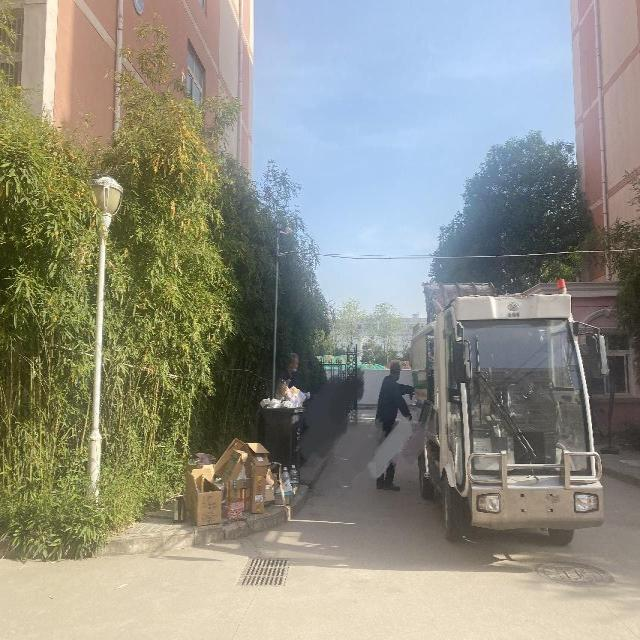garbage: (172, 437, 298, 526)
overflow: (257, 378, 309, 475)
